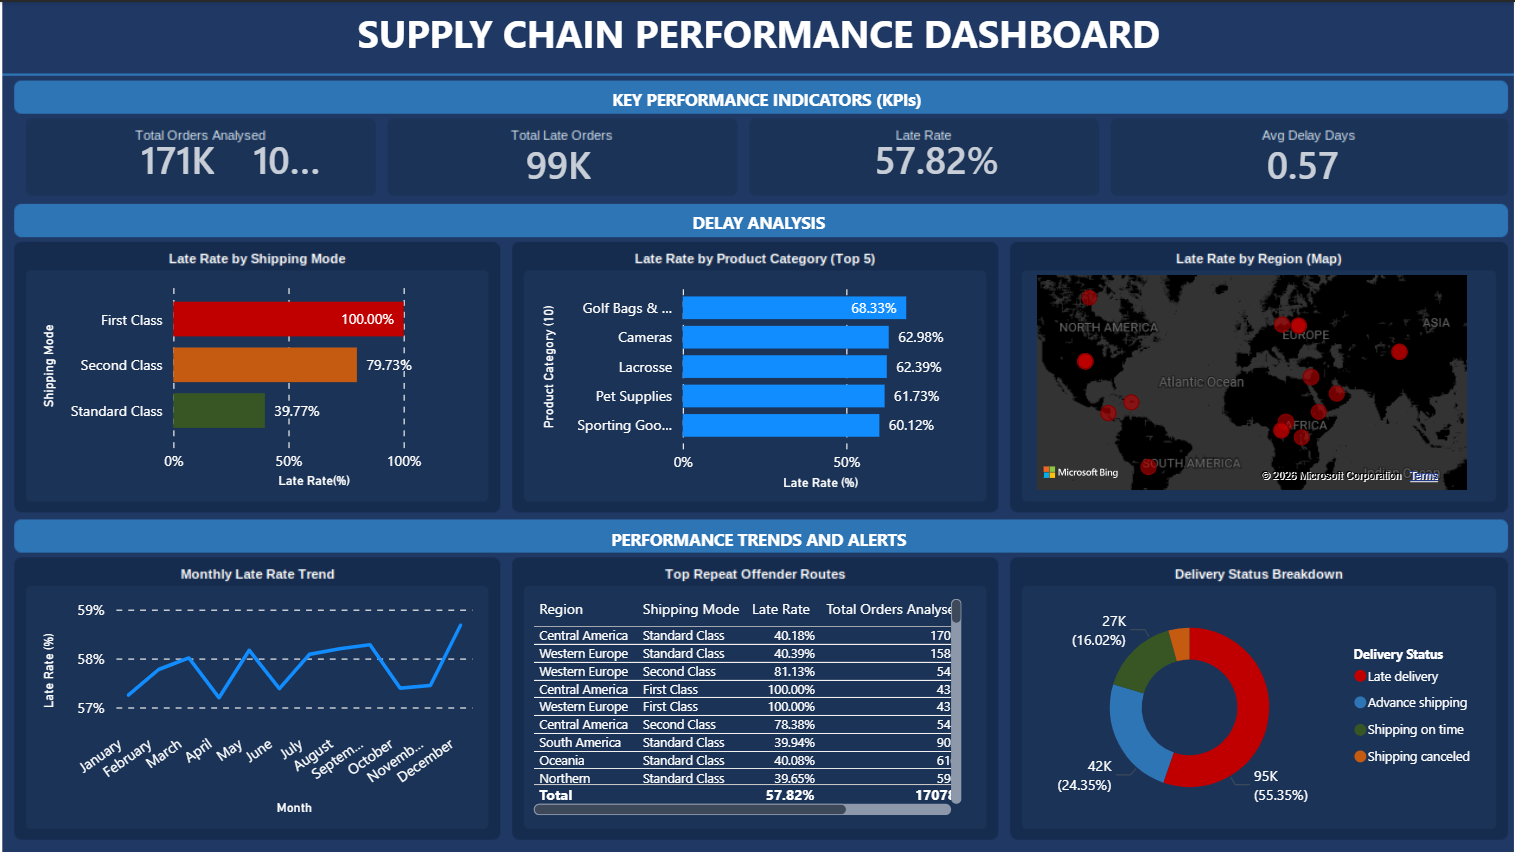

What the dashboard file says about the page in this screenshot:
{"tool":"powerbi","page":{"name":"Page 1","canvas":[1280,720],"ordinal":0},"visuals":[{"type":"cardVisual","title":"Total Orders Analysed","fields":{"Data":["DataCoSupplyChainDataset.Total Orders Analysed"]},"box":[89.5,97.7,217.4,66.3],"z":0},{"type":"cardVisual","fields":{"Data":["DataCoSupplyChainDataset.Total Late Orders"]},"box":[414,97.7,226.7,74.4],"z":1000},{"type":"cardVisual","fields":{"Data":["DataCoSupplyChainDataset.Late Rate"]},"box":[708.1,94.2,260.5,74.4],"z":2000},{"type":"cardVisual","fields":{"Data":["DataCoSupplyChainDataset.Avg Delay Days"]},"box":[1039.5,97.7,215.1,74.4],"z":3000},{"type":"clusteredBarChart","title":"Late Rate by Shipping Mode","fields":{"Y":["DataCoSupplyChainDataset.Late Rate"],"Category":["DataCoSupplyChainDataset.Shipping_Mode"]},"box":[30.2,225,373.2,190.7],"z":4000},{"type":"clusteredBarChart","fields":{"Category":["DataCoSupplyChainDataset.Category_Name"],"Y":["DataCoSupplyChainDataset.Late Rate"]},"box":[452.3,225.6,373.3,190.7],"z":5000},{"type":"map","fields":{"Category":["DataCoSupplyChainDataset.Order_Region"],"Size":["DataCoSupplyChainDataset.Late Rate"]},"box":[869.8,225.6,373.3,190.7],"z":6000},{"type":"lineChart","fields":{"Y":["DataCoSupplyChainDataset.Late Rate"],"Category":["DataCoSupplyChainDataset.order_date_DateOrders.Variation.Date Hierarchy.Month"]},"box":[30.6,498.8,373.3,191.9],"z":7000},{"type":"tableEx","fields":{"Values":["DataCoSupplyChainDataset.Order_Region","DataCoSupplyChainDataset.Shipping_Mode","DataCoSupplyChainDataset.Late Rate","DataCoSupplyChainDataset.Total Orders Analysed","DataCoSupplyChainDataset.Total Late Orders"]},"box":[443.9,498.8,372.2,191.9],"z":8000},{"type":"donutChart","fields":{"Category":["DataCoSupplyChainDataset.Delivery_Status"],"Y":["DataCoSupplyChainDataset.Total Orders Analysed"]},"box":[860.5,499.8,394.4,190.9],"z":9000},{"type":"textbox","box":[13.7,67.2,1266.6,30.2],"z":10000},{"type":"textbox","box":[0,0,1280.3,57.6],"z":11000},{"type":"textbox","box":[0,171.5,1280.3,28.8],"z":12000},{"type":"textbox","box":[0,438.7,1280.1,31.6],"z":13000}]}

Visuals, with their boxes in screenshot pixels (x1, y1, x2, y2), scaled from the page's 1280x720 canvas onto the 1515x852 screenshot:
"Total Orders Analysed" cardVisual: x1=106, y1=116, x2=363, y2=194
cardVisual - DataCoSupplyChainDataset.Total Late Orders: x1=490, y1=116, x2=758, y2=204
cardVisual - DataCoSupplyChainDataset.Late Rate: x1=838, y1=111, x2=1146, y2=200
cardVisual - DataCoSupplyChainDataset.Avg Delay Days: x1=1230, y1=116, x2=1485, y2=204
"Late Rate by Shipping Mode" clusteredBarChart: x1=36, y1=266, x2=477, y2=492
clusteredBarChart - DataCoSupplyChainDataset.Category_Name x DataCoSupplyChainDataset.Late Rate: x1=535, y1=267, x2=977, y2=493
map - DataCoSupplyChainDataset.Order_Region x DataCoSupplyChainDataset.Late Rate: x1=1029, y1=267, x2=1471, y2=493
lineChart - DataCoSupplyChainDataset.Late Rate x DataCoSupplyChainDataset.order_date_DateOrders.Variation.Date Hierarchy.Month: x1=36, y1=590, x2=478, y2=817
tableEx - DataCoSupplyChainDataset.Order_Region x DataCoSupplyChainDataset.Shipping_Mode: x1=525, y1=590, x2=966, y2=817
donutChart - DataCoSupplyChainDataset.Delivery_Status x DataCoSupplyChainDataset.Total Orders Analysed: x1=1018, y1=591, x2=1485, y2=817
textbox: x1=16, y1=80, x2=1514, y2=115
textbox: x1=0, y1=0, x2=1514, y2=68
textbox: x1=0, y1=203, x2=1514, y2=237
textbox: x1=0, y1=519, x2=1514, y2=557
